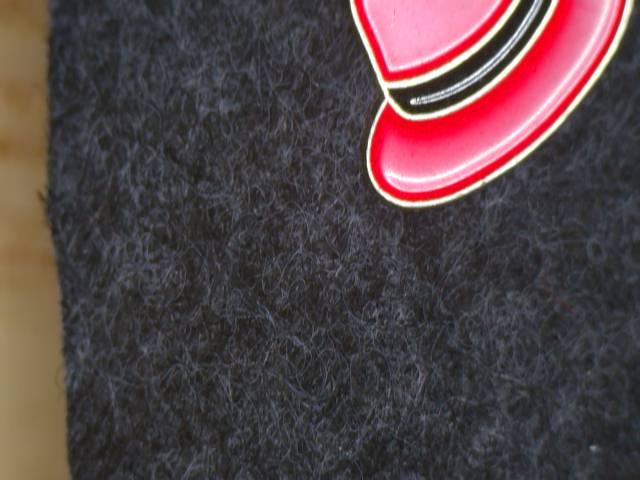Red-Hat: (339, 0, 640, 234)
